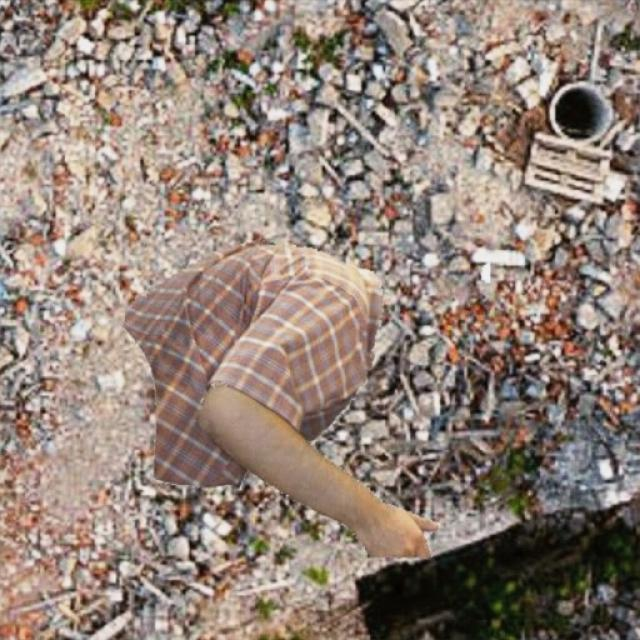Person in Rubble: (122, 240, 488, 556)
